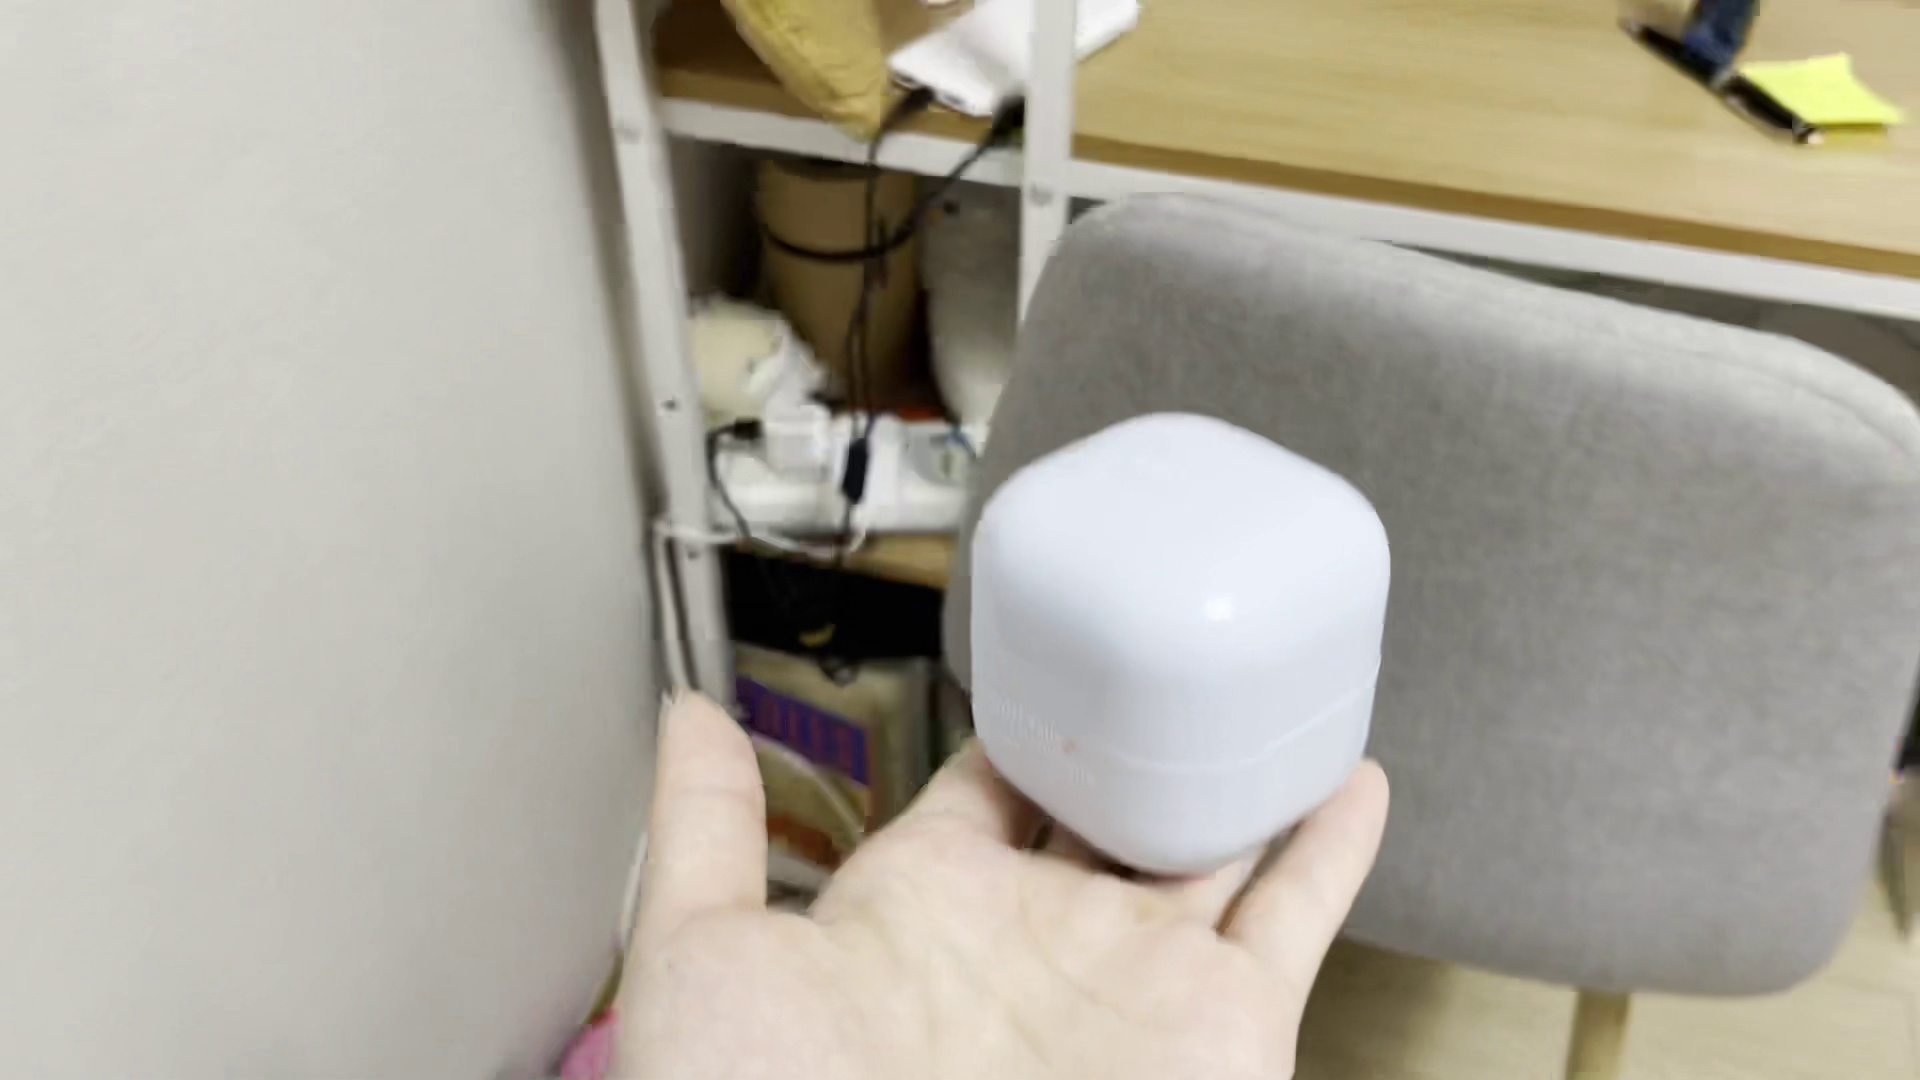cream: (964, 410, 1389, 868)
